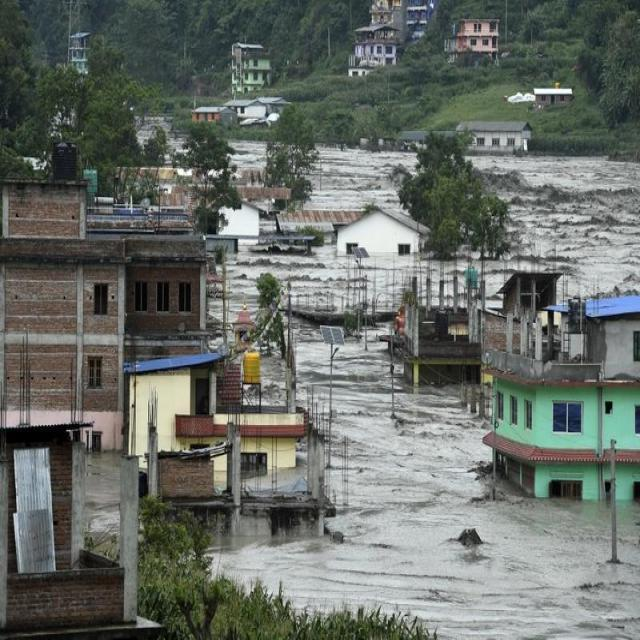flood: (214, 329, 640, 640), (472, 156, 640, 296), (228, 246, 352, 310), (305, 146, 416, 210), (360, 261, 480, 304), (89, 455, 118, 532), (297, 334, 329, 402), (136, 114, 184, 154), (233, 139, 266, 176), (171, 132, 182, 148)
house: (479, 359, 607, 486), (9, 440, 78, 572), (116, 248, 206, 332), (326, 203, 433, 264), (600, 314, 640, 382), (460, 116, 531, 152), (210, 191, 265, 237), (354, 24, 396, 70), (456, 18, 502, 56), (229, 44, 269, 86), (532, 84, 574, 109), (70, 28, 88, 70)
